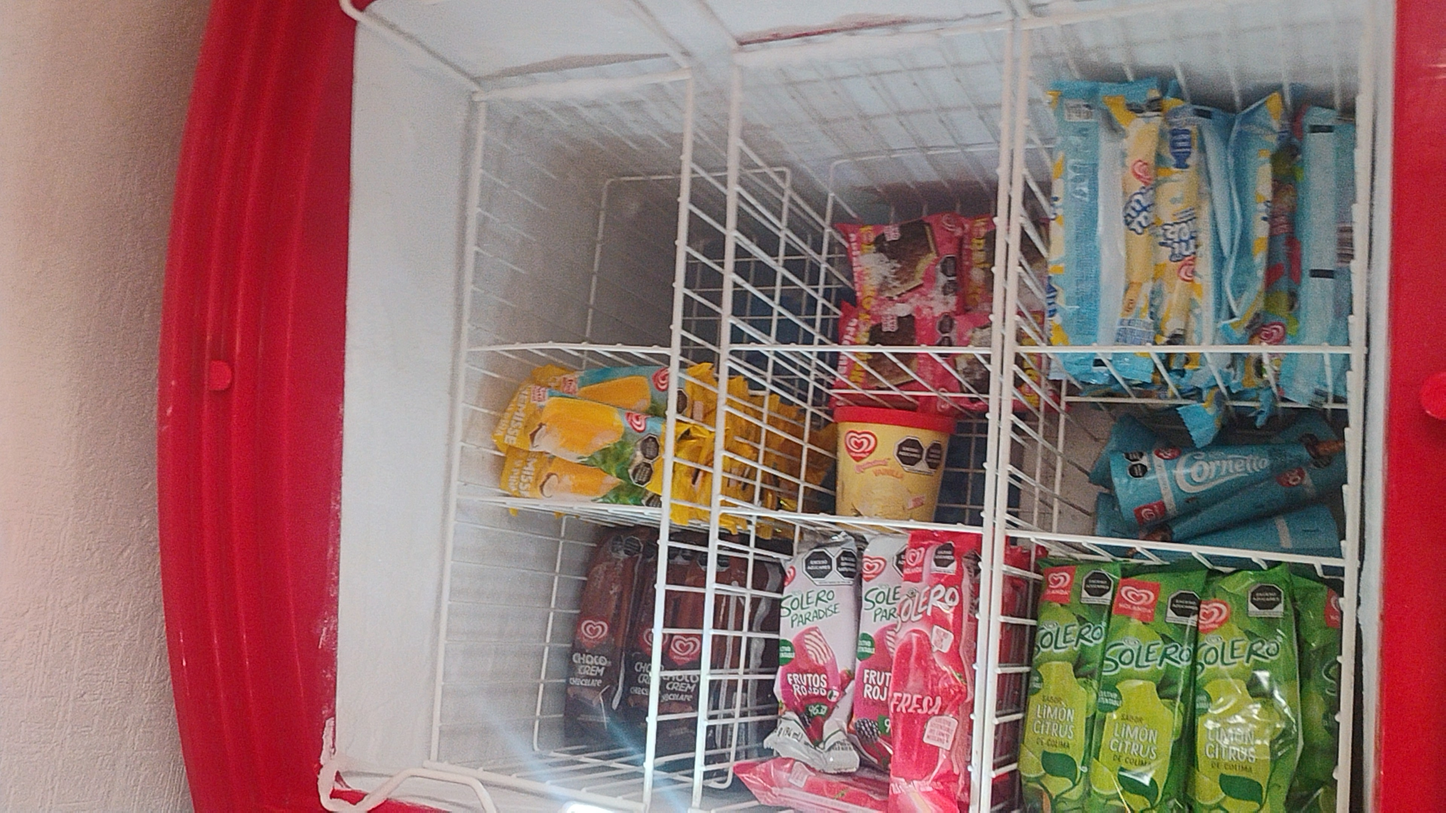rejilla: (980, 29, 1032, 812), (642, 80, 696, 813), (431, 99, 489, 770), (692, 66, 742, 812), (968, 29, 1015, 812), (1335, 0, 1374, 810), (1003, 526, 1349, 565), (728, 21, 1010, 64), (475, 67, 694, 100), (713, 508, 985, 533), (1019, 1, 1199, 27), (452, 495, 666, 512), (728, 342, 988, 353), (1007, 347, 1363, 353), (469, 343, 591, 351), (587, 343, 666, 353)
